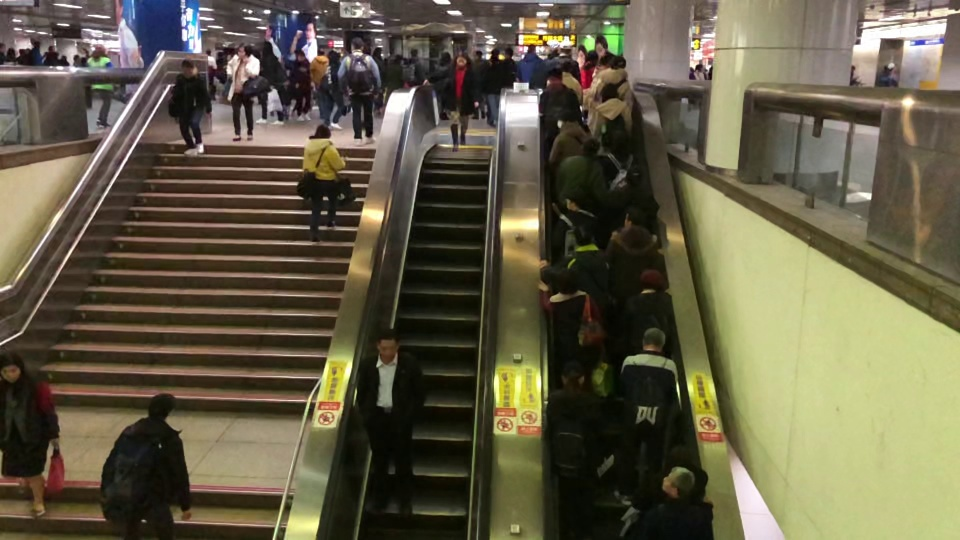person_head: (660, 465, 695, 500), (664, 444, 696, 481), (550, 266, 579, 298), (607, 125, 632, 162), (0, 350, 25, 384), (147, 392, 177, 420), (559, 359, 585, 391), (374, 329, 401, 359), (640, 326, 666, 353), (564, 185, 589, 212), (623, 204, 647, 229), (573, 221, 593, 247), (179, 58, 200, 80), (560, 103, 582, 124), (581, 136, 601, 158), (600, 81, 619, 103), (547, 67, 563, 88), (583, 50, 599, 70), (607, 55, 626, 71), (453, 51, 470, 68), (555, 57, 572, 73), (314, 124, 332, 139), (546, 38, 561, 56), (349, 36, 365, 52), (92, 43, 107, 58), (259, 41, 273, 56), (236, 43, 249, 58), (327, 50, 340, 65), (438, 51, 452, 64), (502, 47, 514, 59), (525, 44, 537, 56), (884, 61, 896, 73), (295, 49, 306, 62), (392, 55, 403, 66), (490, 48, 500, 60), (373, 46, 383, 56), (5, 47, 16, 56), (474, 50, 483, 60), (410, 48, 418, 59), (59, 55, 67, 65), (0, 42, 7, 53), (73, 54, 80, 65), (695, 63, 703, 72), (80, 56, 87, 66), (204, 47, 211, 57), (33, 40, 41, 48), (226, 53, 233, 61), (47, 45, 54, 52)
person_vbox: (354, 329, 426, 521), (611, 326, 678, 505), (544, 359, 609, 540), (117, 391, 191, 540), (0, 350, 60, 517), (537, 266, 608, 373), (622, 465, 714, 540), (422, 51, 483, 152), (629, 443, 709, 511), (599, 204, 659, 294), (539, 221, 612, 294), (301, 124, 346, 242), (336, 36, 382, 146), (166, 58, 212, 158), (554, 135, 609, 211), (549, 185, 608, 255), (539, 67, 582, 161), (225, 43, 261, 142), (546, 103, 593, 170), (253, 41, 290, 124), (597, 125, 643, 191), (528, 38, 580, 89), (588, 81, 632, 141), (590, 55, 633, 116), (86, 43, 115, 128), (316, 50, 344, 130), (544, 56, 582, 102), (290, 49, 312, 122), (484, 48, 503, 125), (433, 51, 453, 120), (514, 44, 544, 88), (470, 50, 486, 120), (370, 45, 384, 115), (384, 55, 403, 105), (401, 48, 423, 87), (500, 47, 520, 88), (203, 47, 218, 100), (80, 56, 93, 109), (581, 50, 599, 88), (221, 53, 233, 104), (883, 61, 898, 87), (43, 45, 59, 65), (31, 40, 43, 66), (3, 46, 17, 64), (693, 63, 706, 81), (0, 42, 7, 64)
